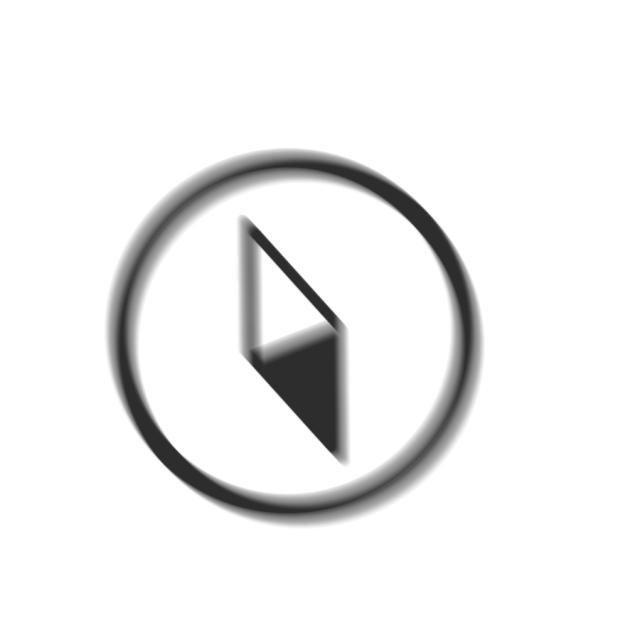compass: (102, 145, 491, 535)
